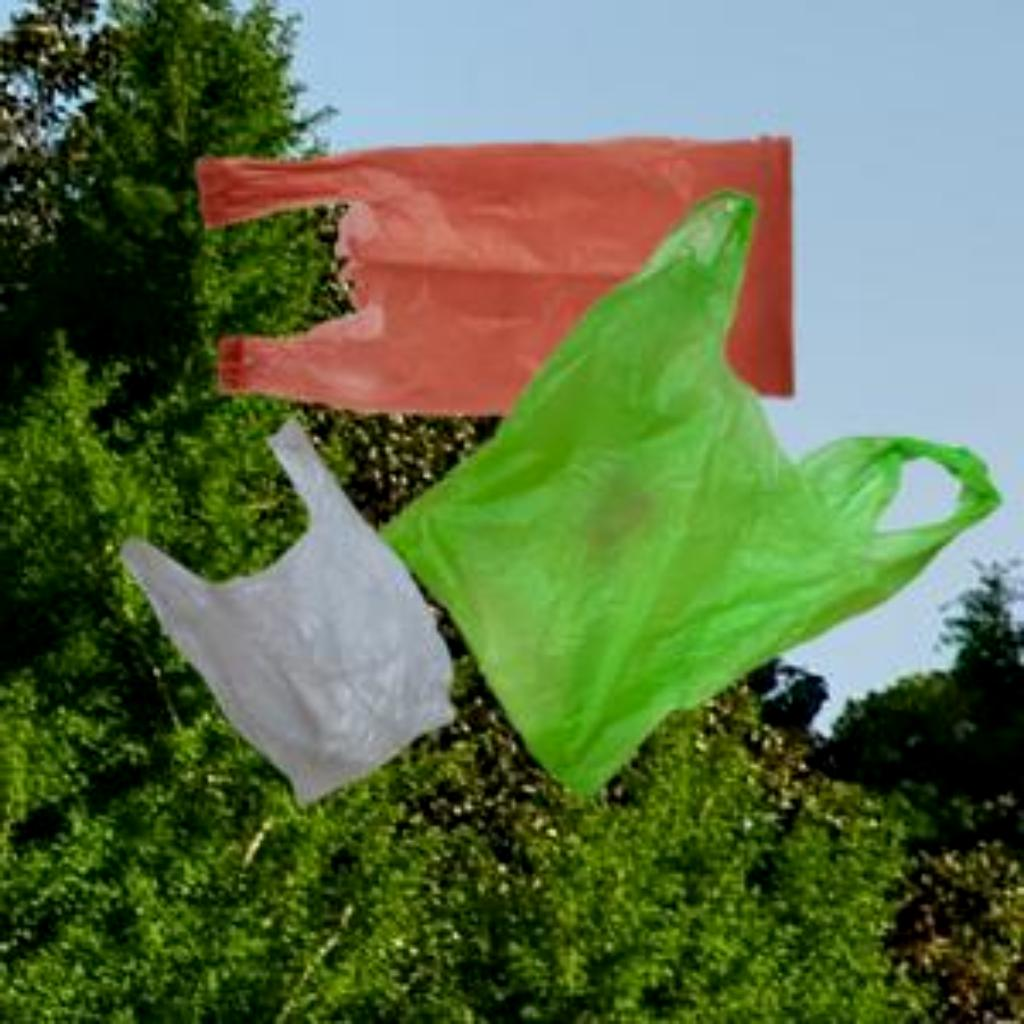garbage: (427, 181, 997, 802), (147, 96, 823, 427), (101, 404, 456, 831)
